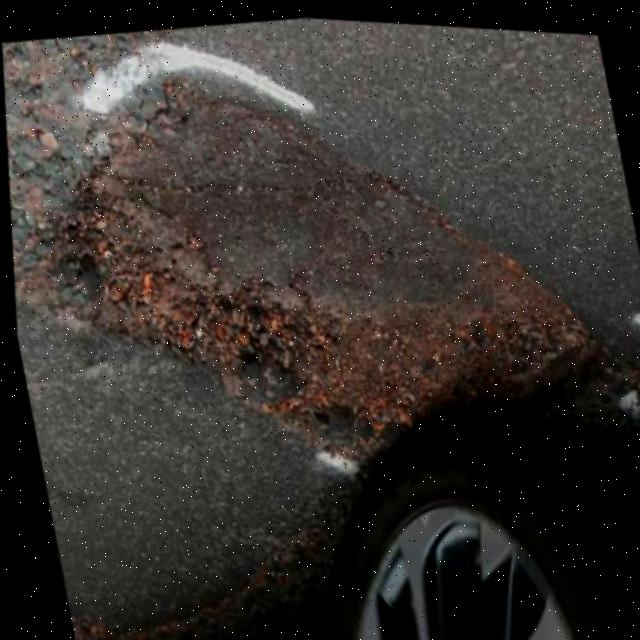Pothole: (47, 71, 615, 479)
